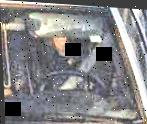seatbelt: (69, 33, 118, 83)
